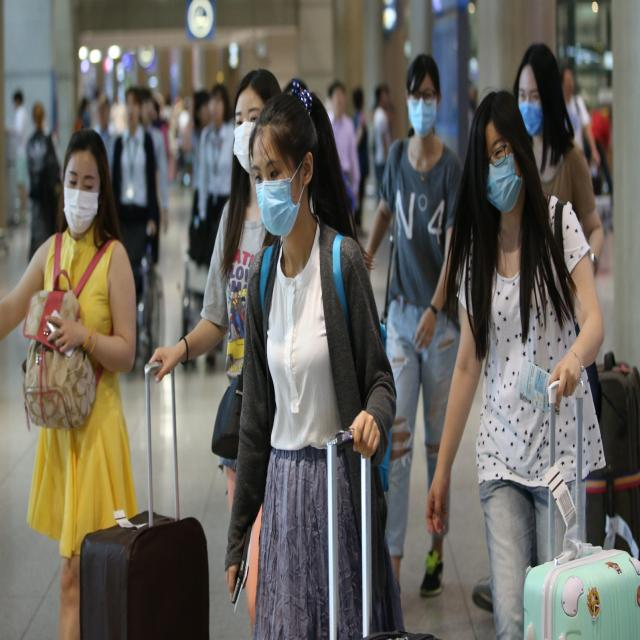body: (222, 75, 412, 640), (421, 78, 609, 640), (142, 61, 287, 640), (0, 120, 141, 639), (361, 51, 466, 602), (512, 41, 604, 273), (194, 81, 235, 365), (112, 86, 160, 301), (25, 100, 67, 268), (142, 82, 208, 173), (323, 81, 360, 211), (560, 66, 601, 180), (4, 85, 34, 227), (351, 82, 370, 241), (92, 92, 120, 182), (372, 81, 392, 202), (75, 82, 104, 130), (156, 179, 170, 236)
